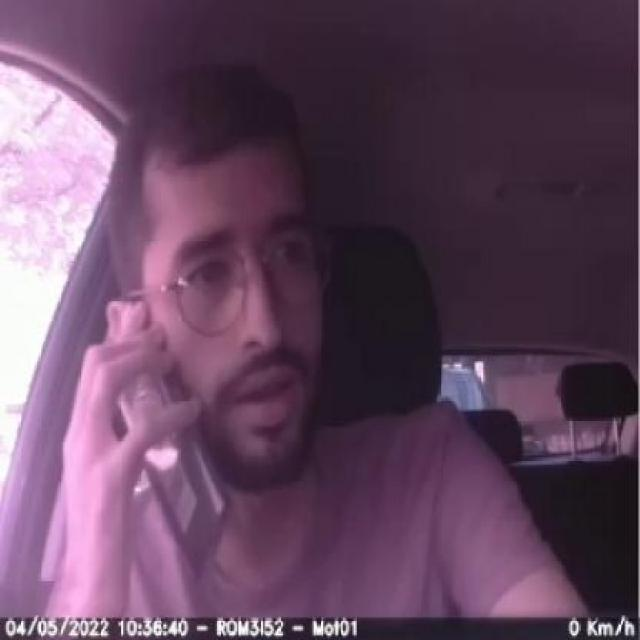using_phone: (71, 279, 211, 589)
